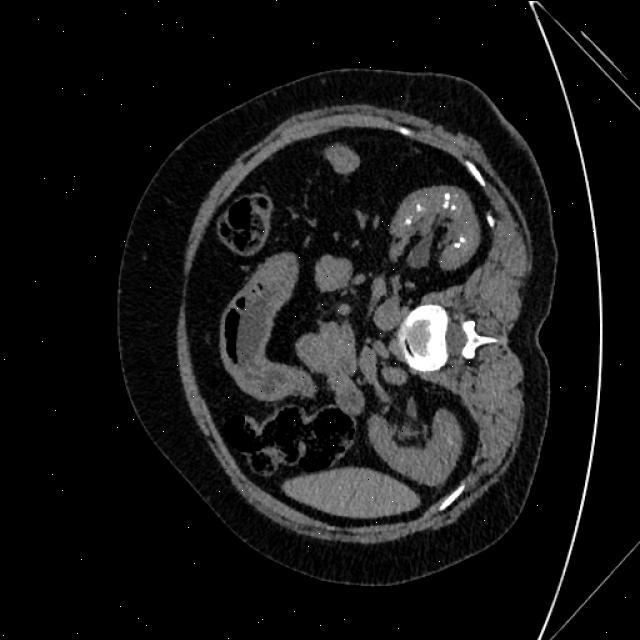kidneystone: (442, 191, 456, 209), (398, 216, 412, 229), (454, 235, 466, 248), (416, 202, 422, 211)
